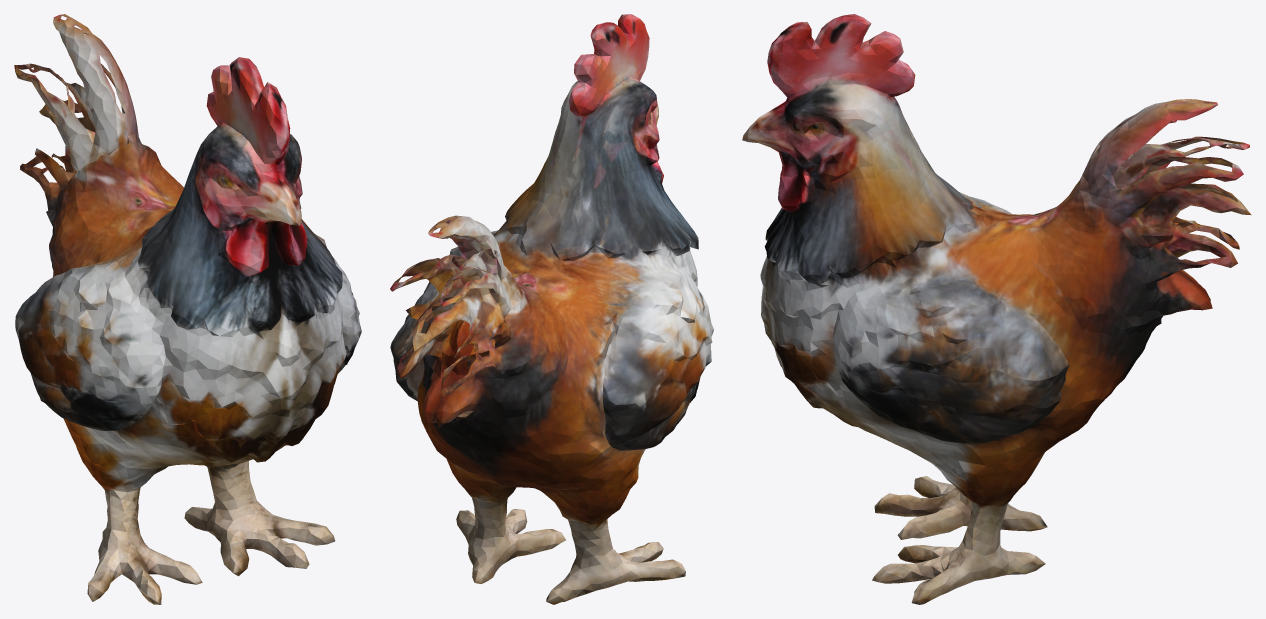
File: rooster_texture.obj
The picture shows the model from 3 angles, left to right: view 1: azimuth 30°, elevation 25°; view 2: azimuth 150°, elevation 25°; view 3: azimuth 270°, elevation 25°; orthographic projection. The views are drawn at different scales.
Parts seen in each view (by area): view 1: rooster_texture; view 2: rooster_texture; view 3: rooster_texture.
Part boxes in pixels (box(x1,y1,x2,y2)): rooster_texture: box(14, 14, 361, 604); rooster_texture: box(390, 14, 713, 604); rooster_texture: box(742, 14, 1251, 604).
Size of the model in its own units: 1.09 by 2 by 1.73.
1 material, 1 textured.
